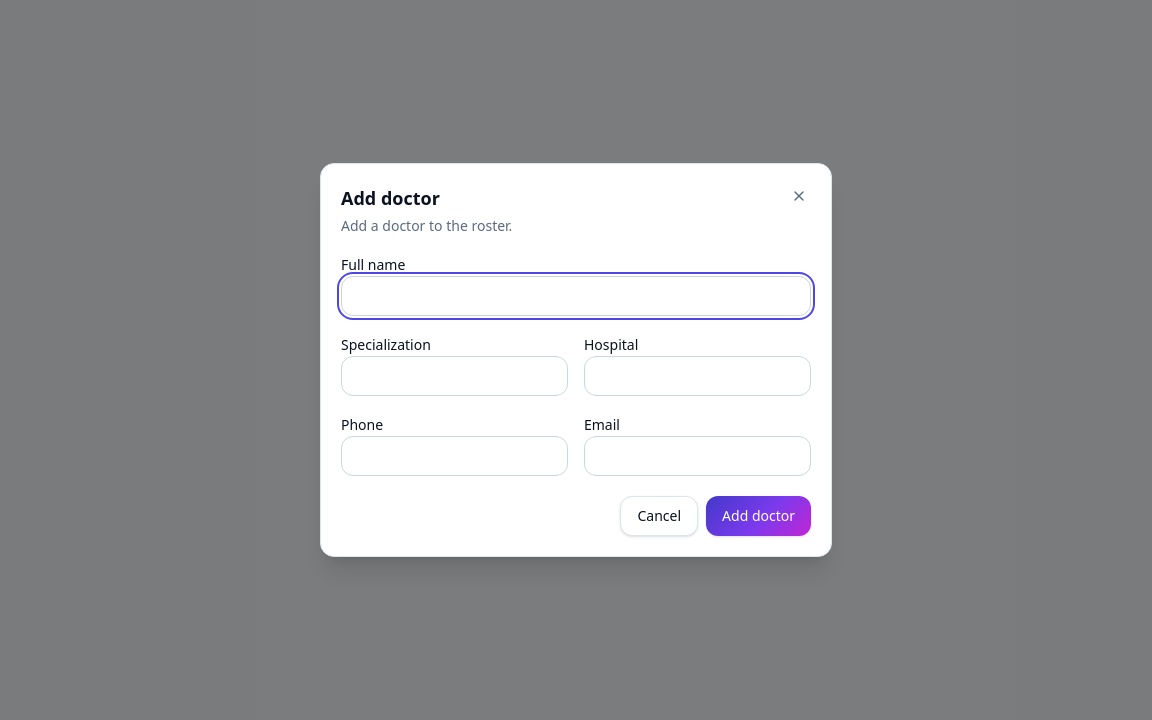
Test: doctor form › shows a non-validation failure in the banner
Type "Alice Nguyen" into the field labelled "Full name" at (576, 296), box top-left (341, 276), bottom-right (811, 316)
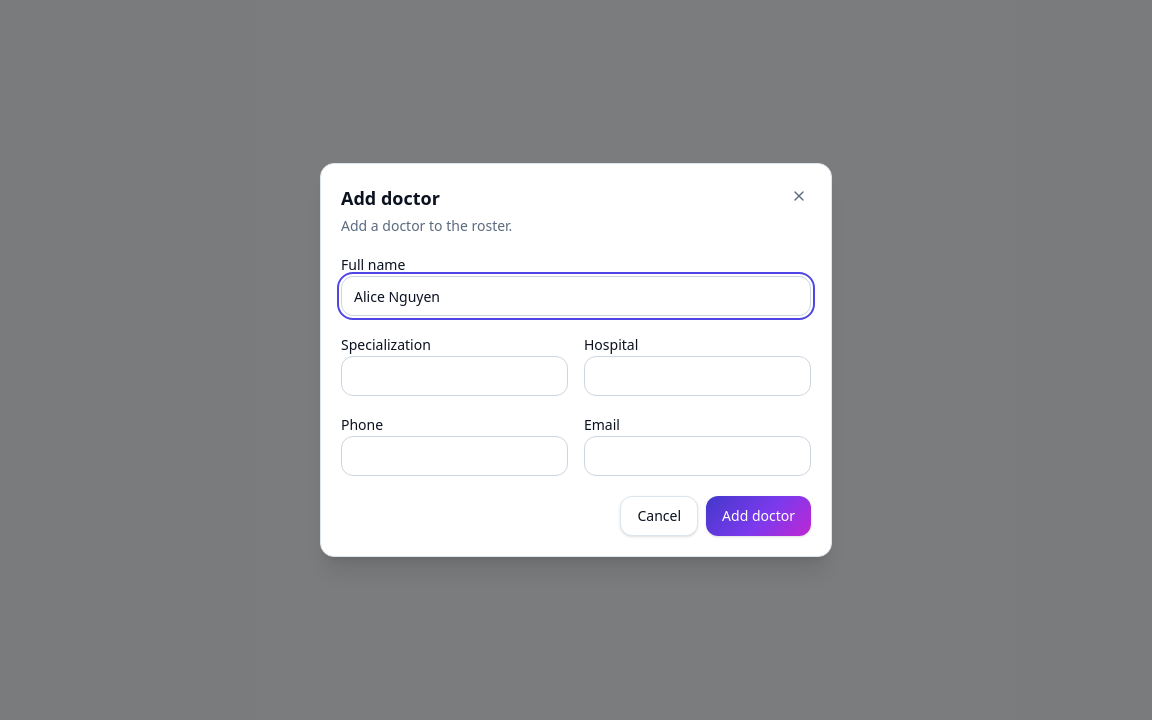
Type "Cardiology" into the field labelled "Specialization" at (454, 376), box top-left (341, 356), bottom-right (568, 396)
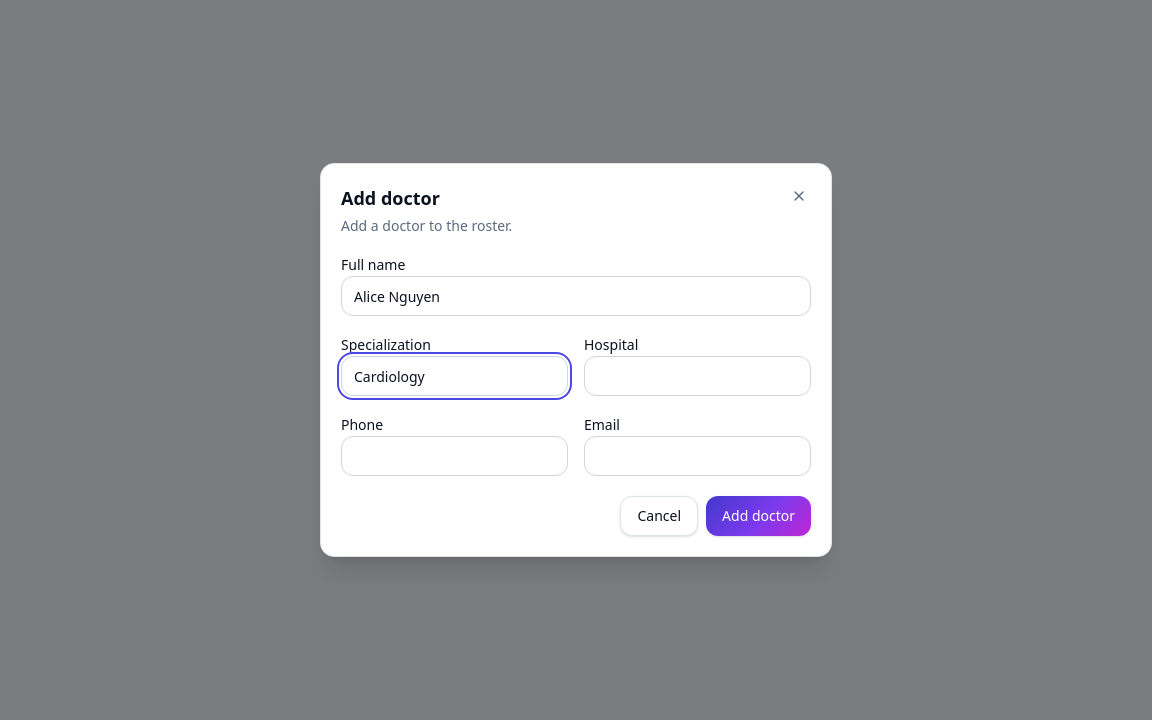
Type "St. Mary General" into the field labelled "Hospital" at (698, 376), box top-left (584, 356), bottom-right (811, 396)
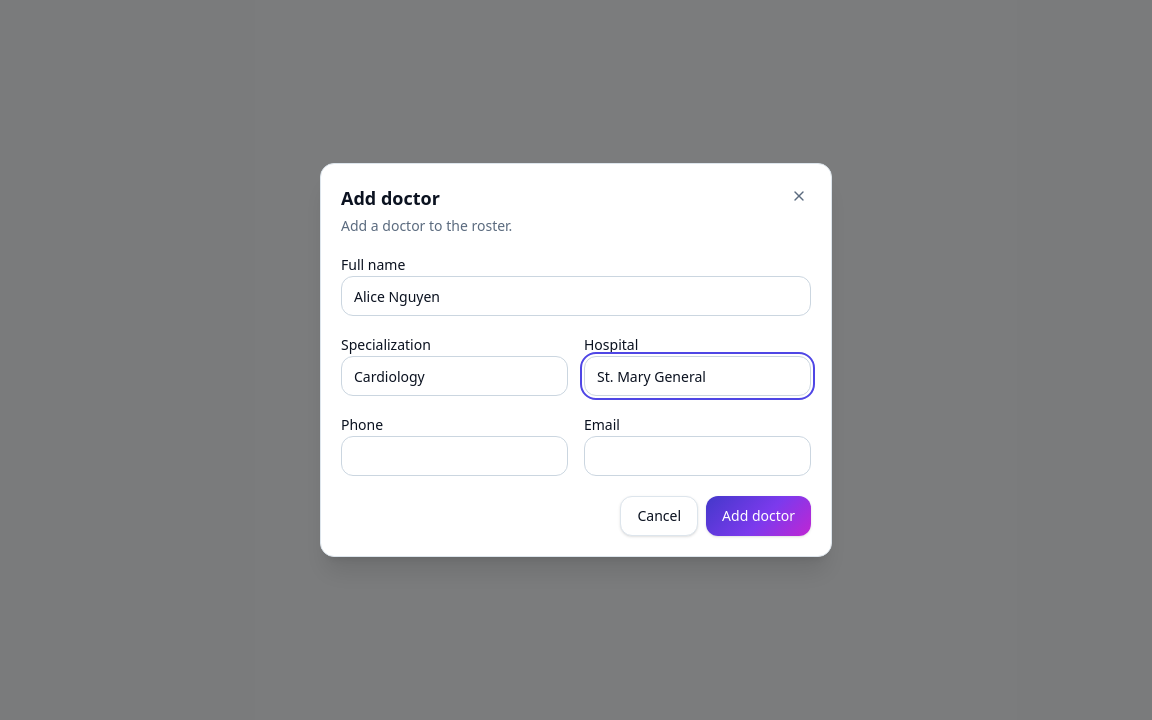
Type "+1-555-0100" into the field labelled "Phone" at (454, 456), box top-left (341, 436), bottom-right (568, 476)
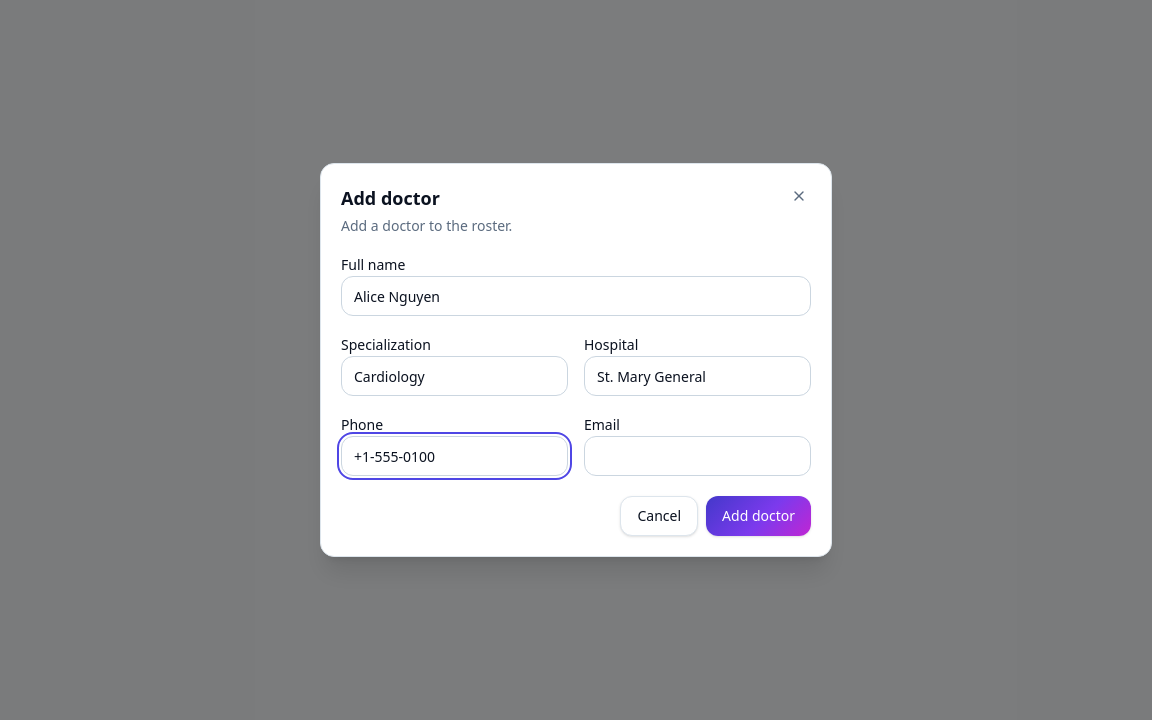
Type "alice@hospital.test" into the field labelled "Email" at (698, 456), box top-left (584, 436), bottom-right (811, 476)
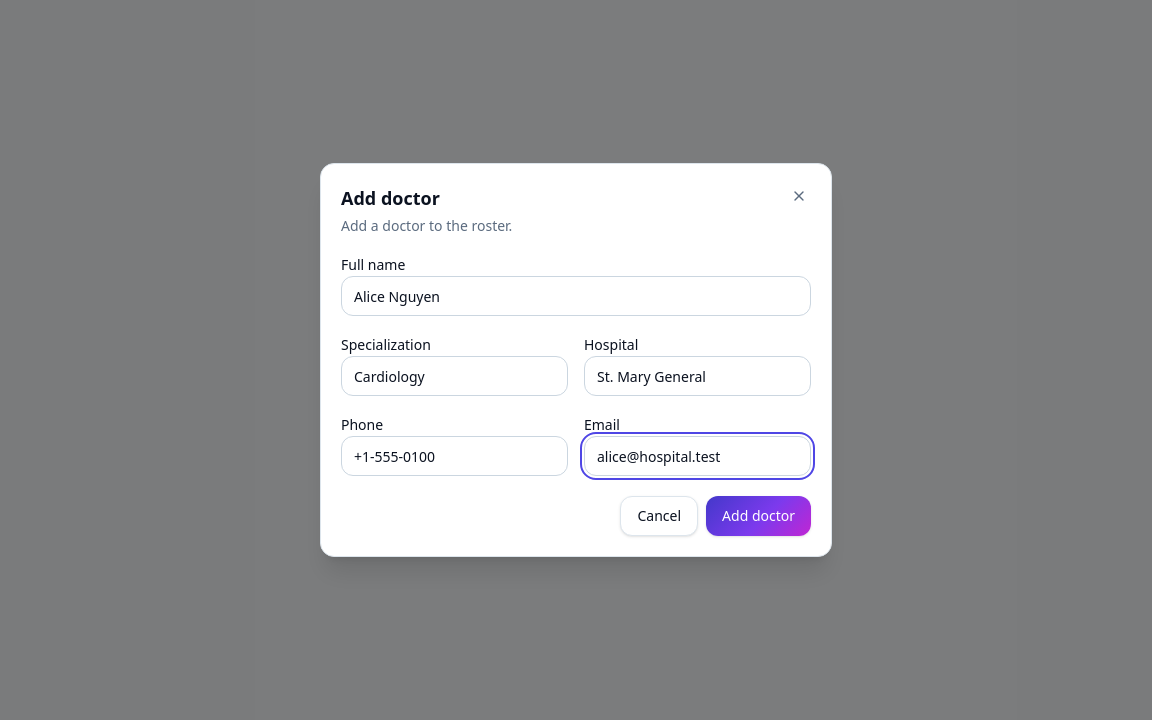
Click the button "Add doctor" at (759, 516), box top-left (706, 496), bottom-right (811, 536)
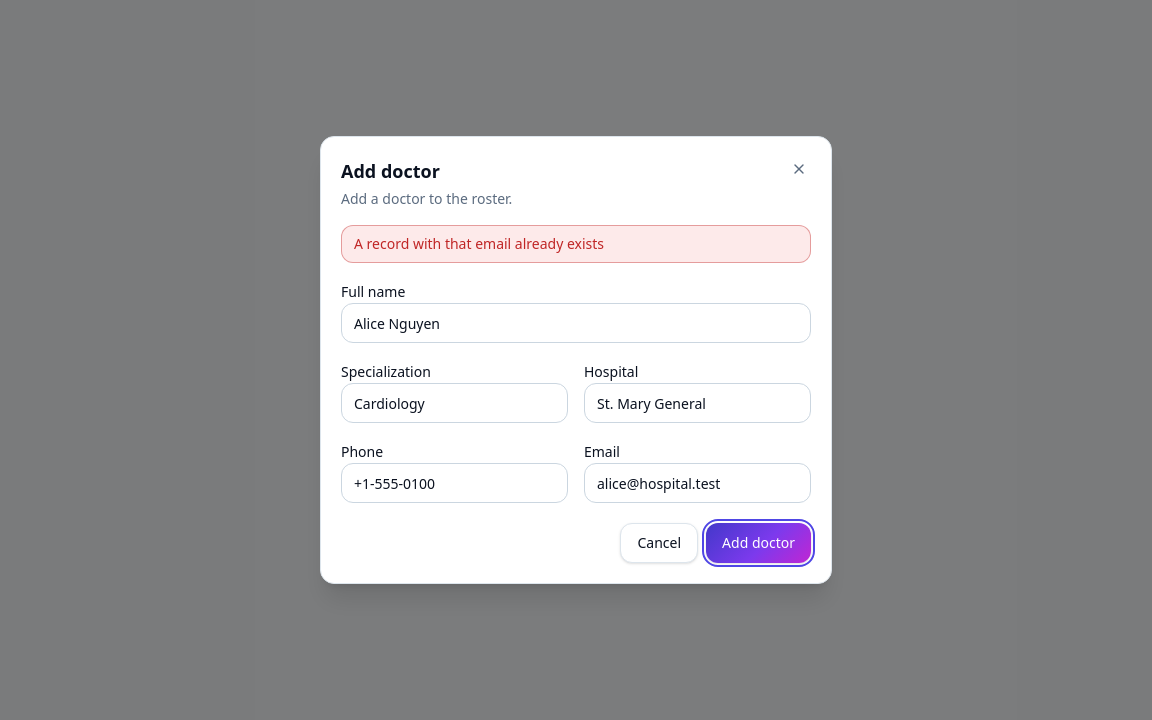
Now the message reads "A record with that email already exists", box top-left (354, 234), bottom-right (604, 253)
